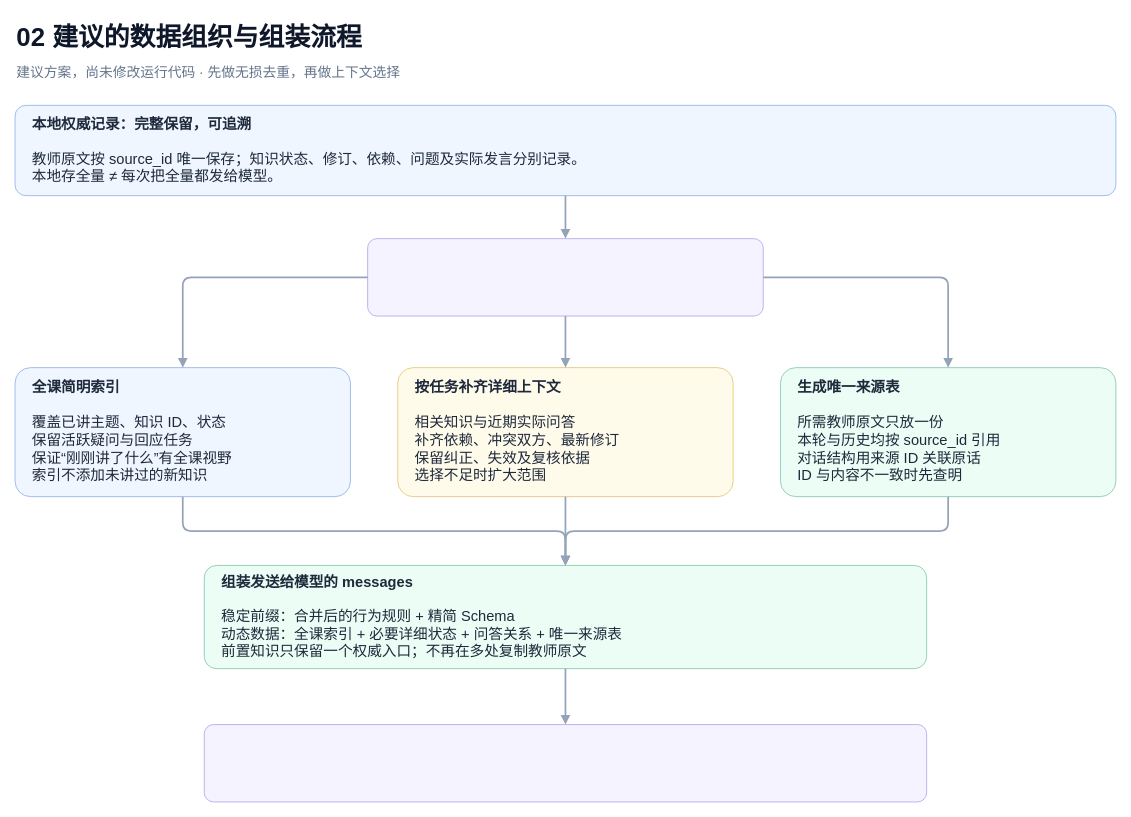
The diagram is 1131 pixels wide and 817 high, and some of its shapes have lost their labels. Each missing label, with the box of its shape:
模型输出 → 完整后端校验 → 更新本地记录 继续校验来源、依赖、失效状态、提问次数及字段上限: (203, 724, 927, 802)
识别本轮任务与所需范围 普通讲授 / 具体追问 / 纠错 / 全课复述或疑问邀请: (367, 238, 763, 316)
